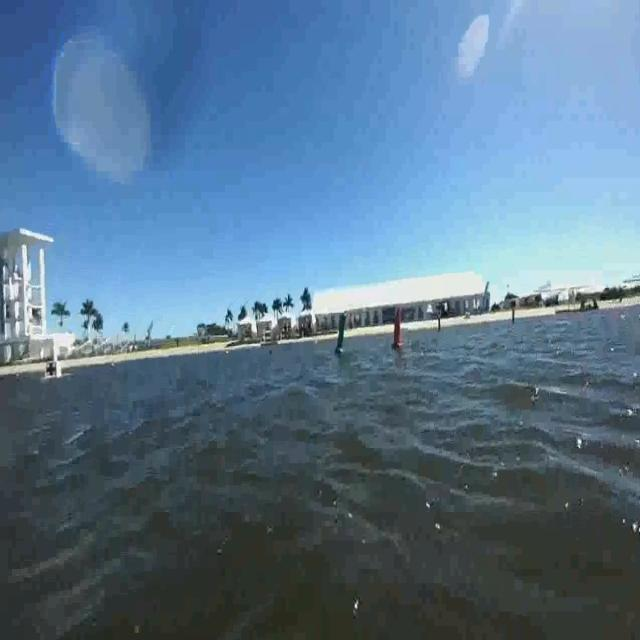green-column-buoy: (336, 312, 350, 356)
red-column-buoy: (387, 301, 408, 362)
